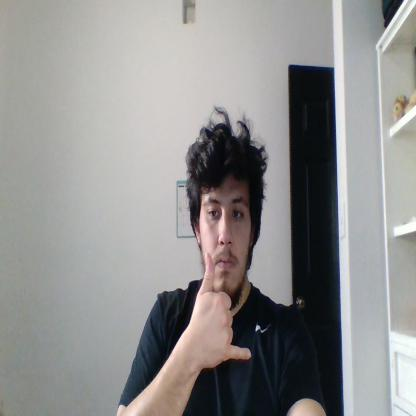Y: (191, 252, 252, 368)
